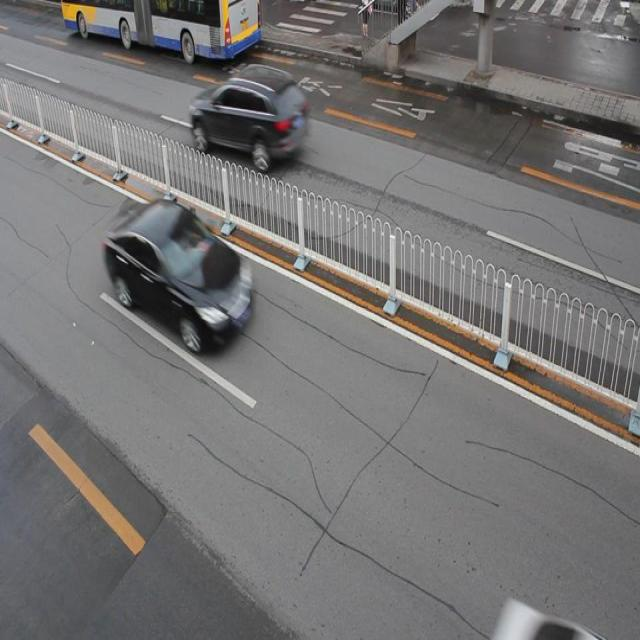car: (105, 200, 252, 349), (190, 66, 305, 166)
van: (62, 1, 260, 59)
